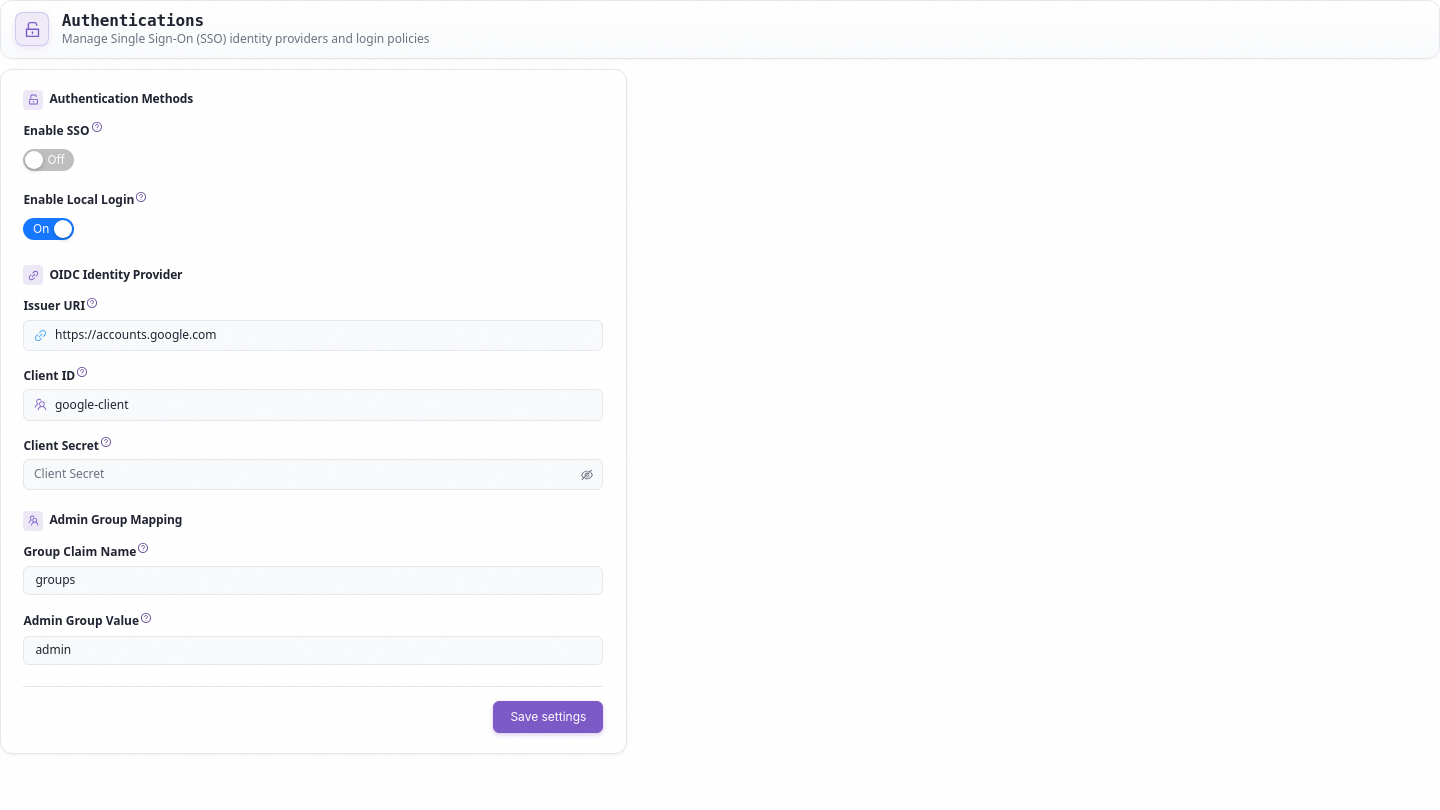
Test case: AuthenticationsPage › saves authentication settings with correct payload
Expected: the text "Enable SSO" is shown, [23, 123, 115, 138]
What coordinates should you click on to do the following:
click the button "Save settings"
I would click on:
 (548, 717)
Its box is [493, 701, 603, 733].
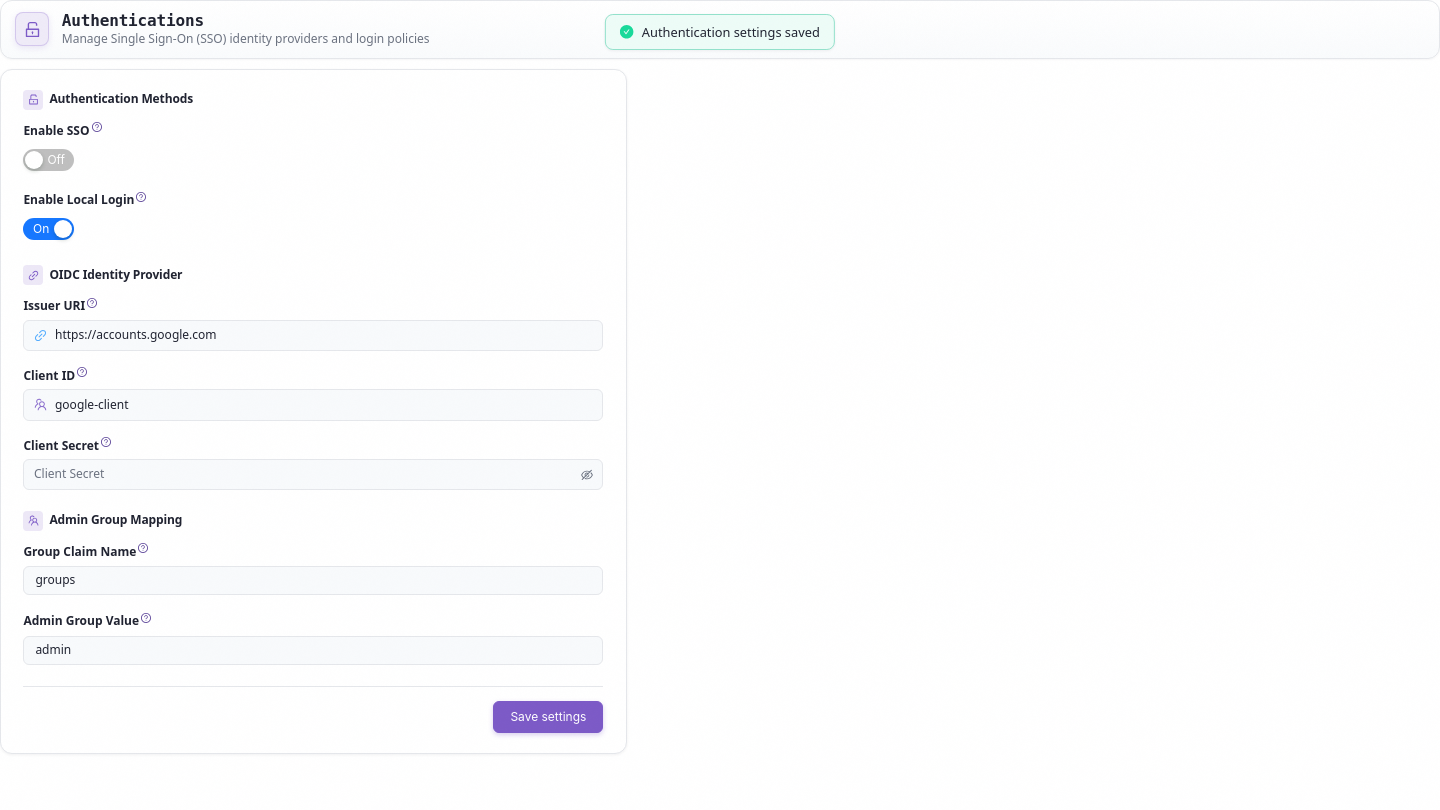
Now the text "Authentication settings saved" is shown, box [642, 23, 820, 41]
